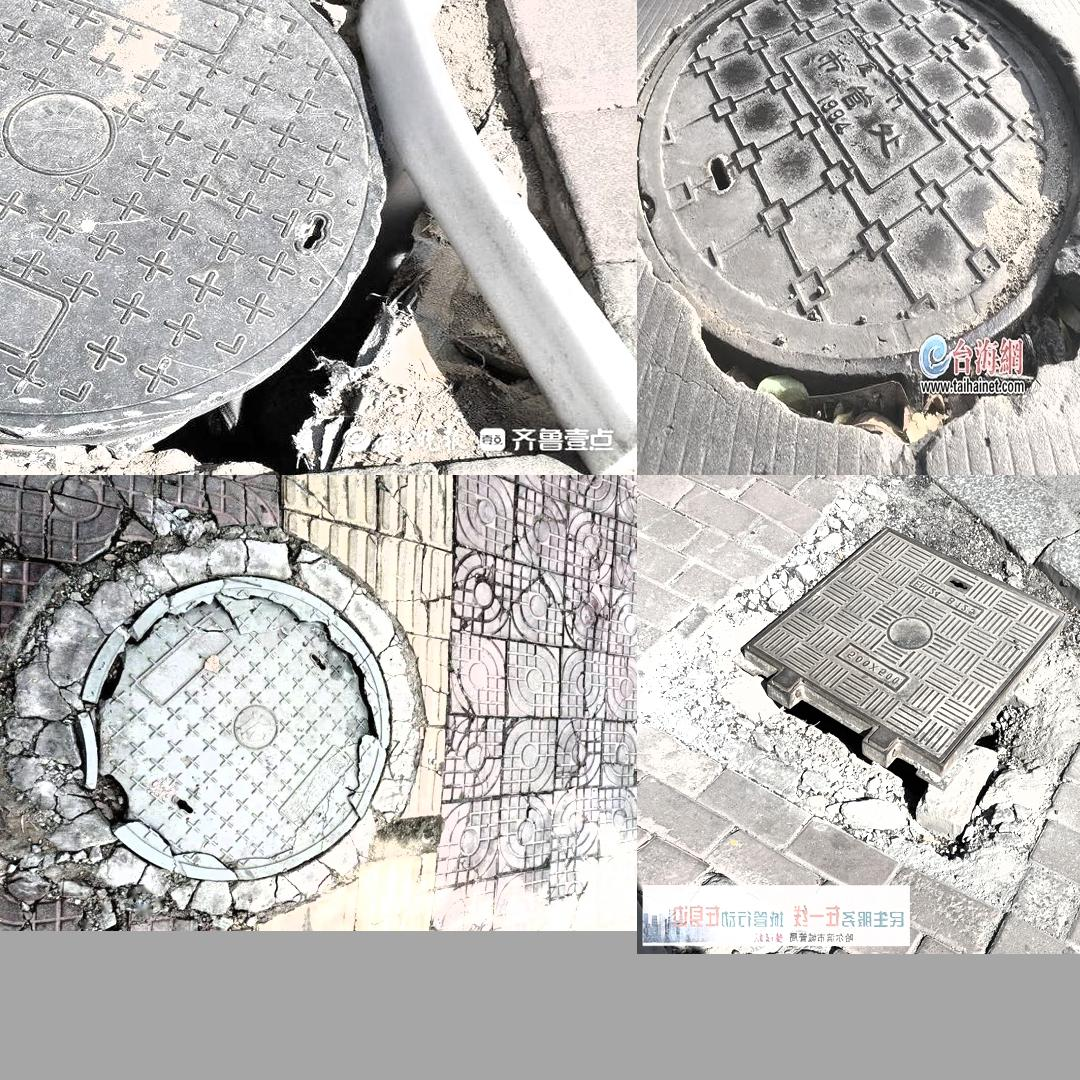circle: (0, 0, 564, 457), (649, 0, 1080, 450), (14, 527, 434, 910), (668, 523, 1080, 857)
